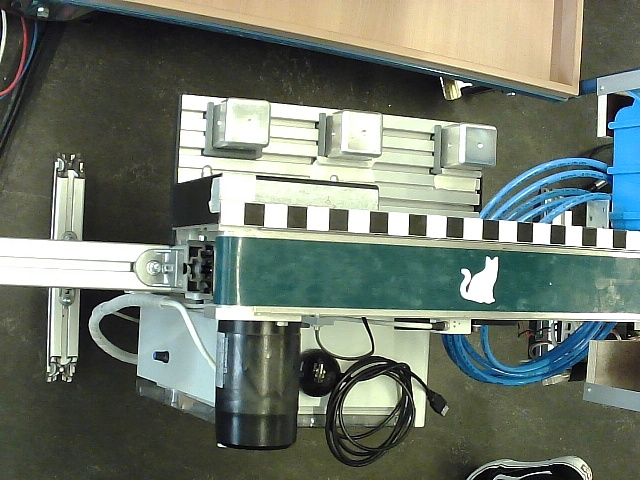cat: (459, 256, 500, 305)
